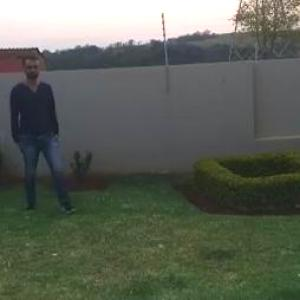follow: (8, 52, 63, 217)
